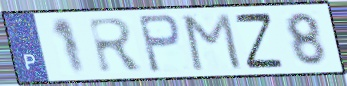1: (49, 16, 89, 77)
8: (282, 10, 330, 68)
M: (181, 11, 244, 73)
P: (135, 13, 184, 75)
R: (85, 15, 147, 75)
Z: (231, 11, 286, 71)
